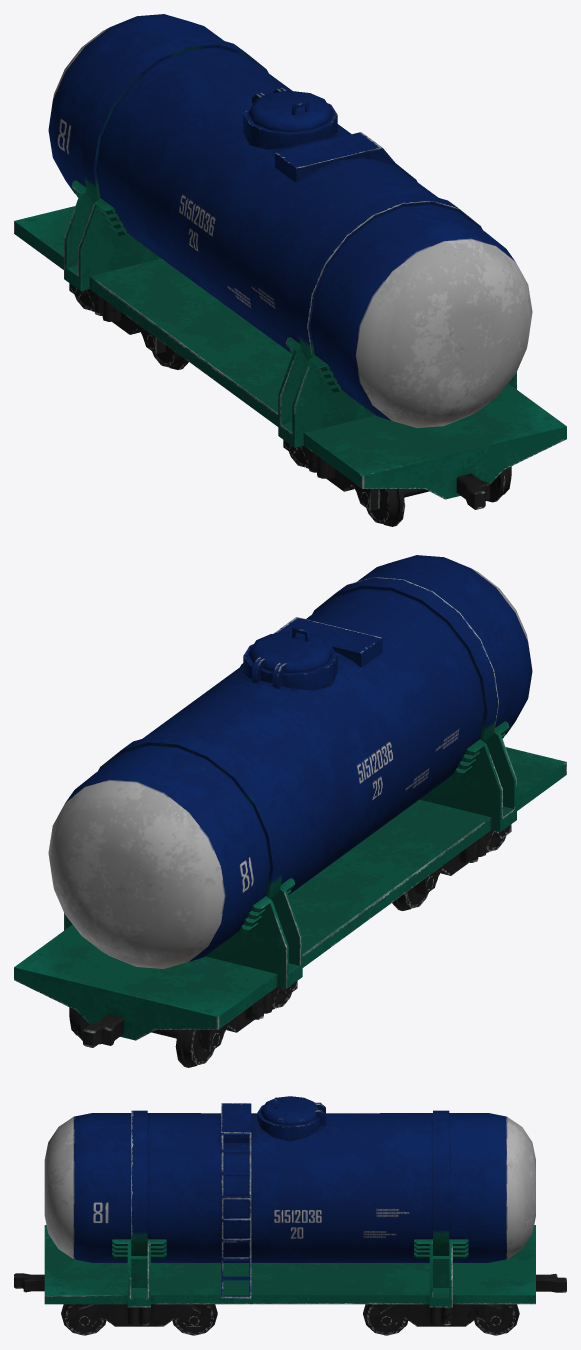
The model's file is Tank car.fbx.
3 renders of one model, top to bottom at view 1: azimuth 30°, elevation 25°; view 2: azimuth 150°, elevation 25°; view 3: azimuth 270°, elevation 25°, orthographic. The views are drawn at different scales.
Parts seen in each view (by area): view 1: Tank car; view 2: Tank car; view 3: Tank car.
Part boxes in pixels (x1,y1,x2,y2): Tank car: (14,14,566,526); Tank car: (14,555,566,1067); Tank car: (14,1096,566,1335).
Size of the model in its own units: 545 by 724 by 1668.
